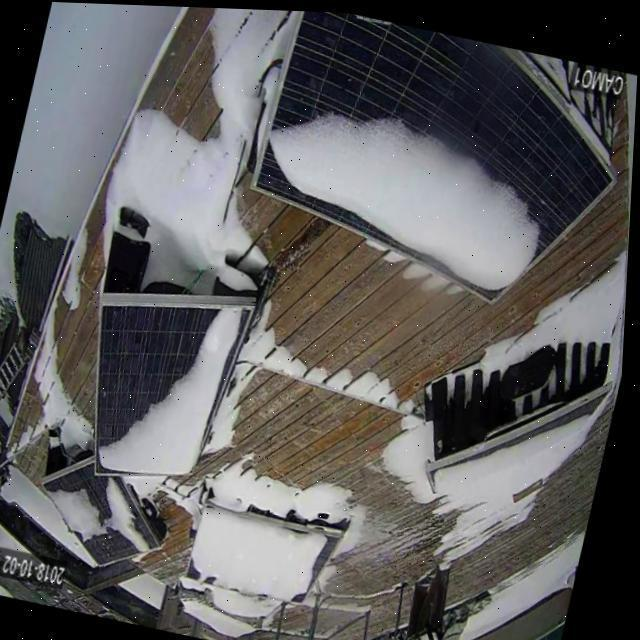Anomaly Solar Panel: (259, 9, 618, 298), (100, 304, 255, 474), (432, 387, 614, 492), (192, 507, 347, 603), (46, 461, 165, 565)
Snow: (270, 105, 546, 287), (103, 306, 249, 475), (440, 410, 596, 490), (199, 508, 334, 599), (50, 475, 158, 553)
